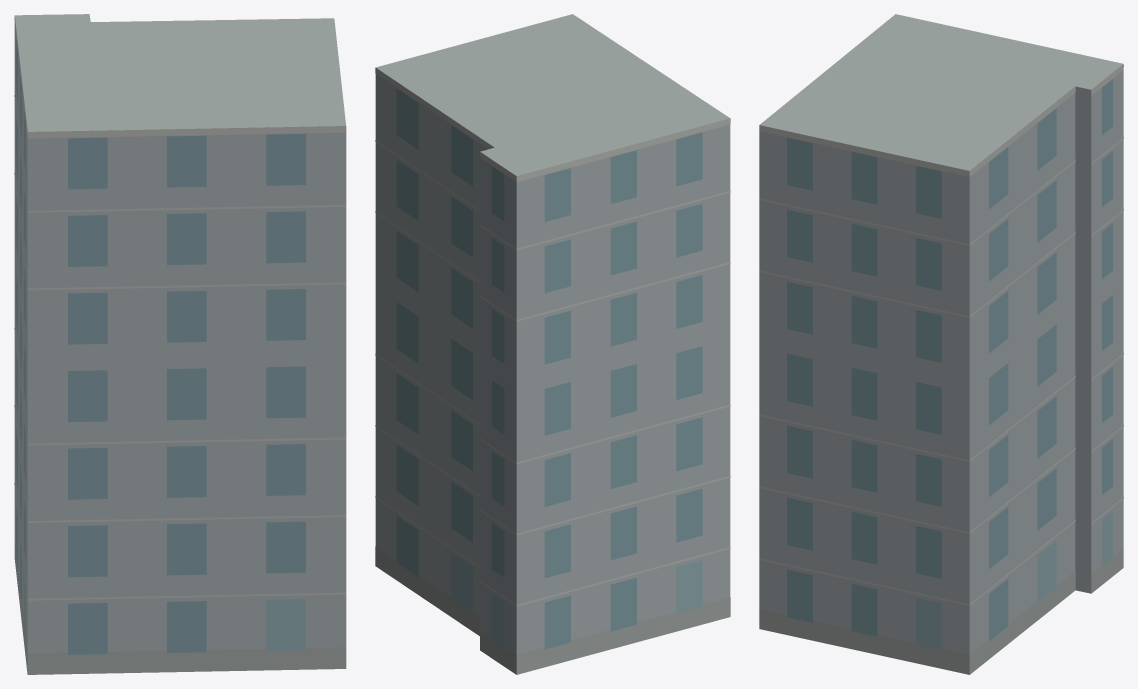
Rendered from survey-upis-32660059.glb.
3 renders of one model, left to right at view 1: azimuth 30°, elevation 25°; view 2: azimuth 150°, elevation 25°; view 3: azimuth 270°, elevation 25°, orthographic. The views are drawn at different scales.
Visible parts, largest first — view 1: survey-upis-32660059.tmp; view 2: survey-upis-32660059.tmp; view 3: survey-upis-32660059.tmp.
Part boxes in pixels (<box>): survey-upis-32660059.tmp: <box>14,14,346,674</box>; survey-upis-32660059.tmp: <box>375,14,730,674</box>; survey-upis-32660059.tmp: <box>759,14,1123,674</box>.
Bounding box in the file's own units: 13.45 × 20.1 × 13.19.
